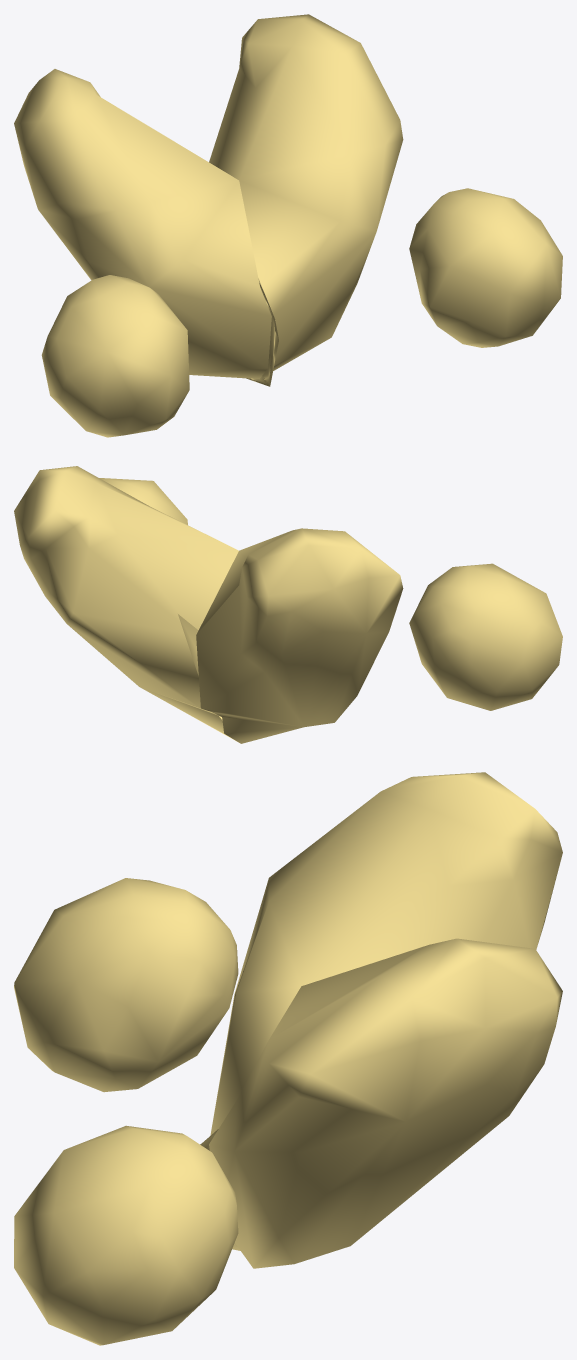
3 views of the same model, one above another, from view 1: azimuth 30°, elevation 25°; view 2: azimuth 150°, elevation 25°; view 3: azimuth 270°, elevation 25° (orthographic). The views are drawn at different scales.
Parts seen in each view (by area): view 1: ZA_02b037e87ce16744; view 2: ZA_02b037e87ce16744; view 3: ZA_02b037e87ce16744.
Boxes of the visible parts, x1,y1,x2,y2 form: ZA_02b037e87ce16744: (14,14,562,437); ZA_02b037e87ce16744: (14,466,562,743); ZA_02b037e87ce16744: (14,772,562,1345).
Size of the model in its own units: 0.00734 by 0.00402 by 0.00495.
